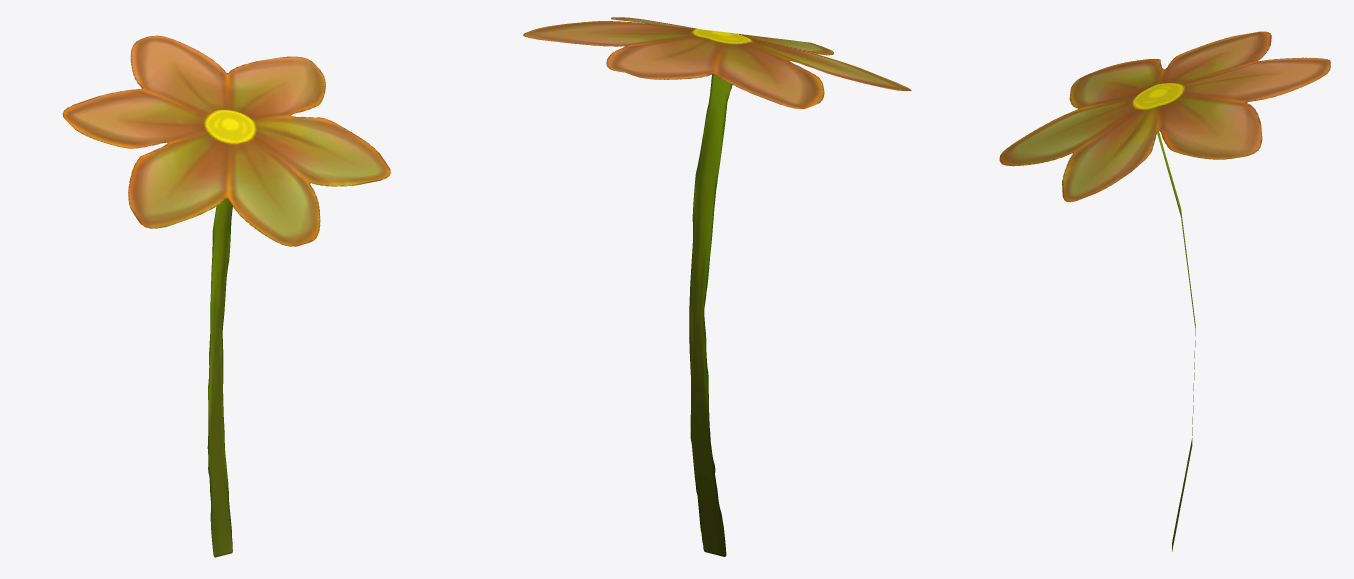
The model's file is 29_Flor.fbx.
3 renders of one model, left to right at view 1: azimuth 30°, elevation 25°; view 2: azimuth 150°, elevation 25°; view 3: azimuth 270°, elevation 25°, orthographic. The views are drawn at different scales.
Parts seen in each view (by area): view 1: 29_Flor; view 2: 29_Flor; view 3: 29_Flor.
Boxes of the visible parts, box(x1,y1,x2,y2) form: 29_Flor: box(62, 35, 390, 557); 29_Flor: box(523, 17, 911, 556); 29_Flor: box(999, 31, 1330, 551).
Size of the model in its own units: 19.03 by 32.78 by 20.93.
